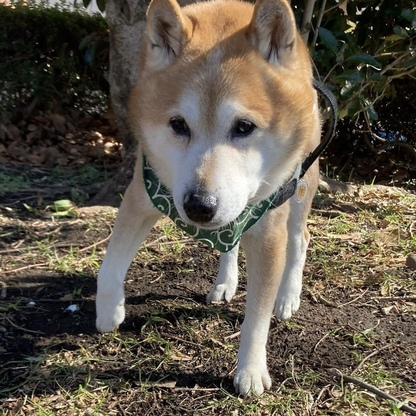shiba: (83, 1, 326, 405)
